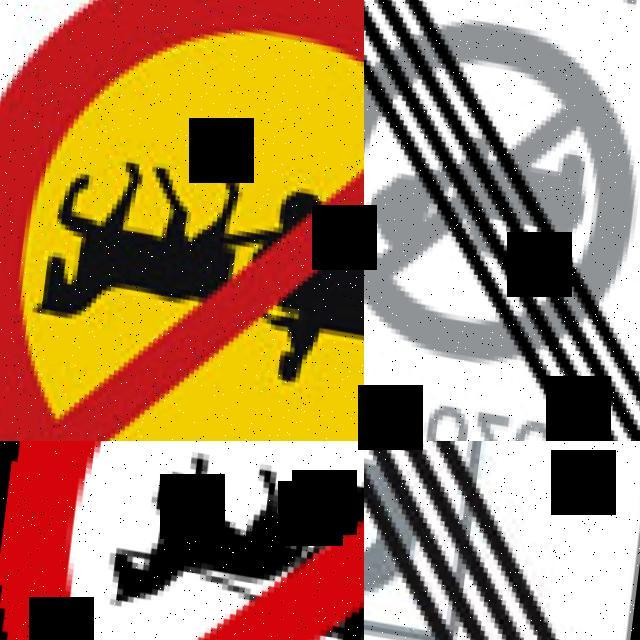110: (364, 0, 640, 441)
111: (364, 441, 640, 640)
41: (0, 0, 364, 441)
No entry for bullock carts: (0, 441, 364, 640)
